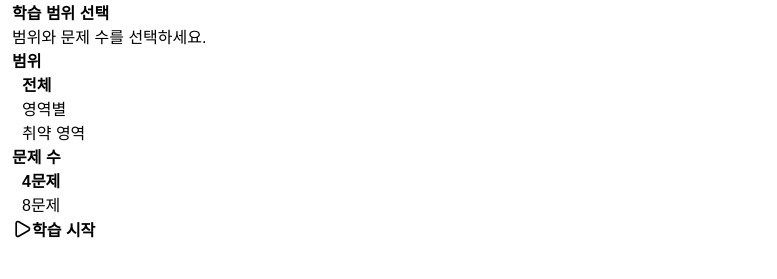
학습 시작 › 401이면 로그인 안내와 다른 기기 로그인 시 세션 만료 가능 문구를 보인다
What coordinates should you click on to do the following:
click the button "학습 시작"
I would click on:
 (54, 229)
Its box is x1=12 y1=216 x2=95 y2=242.
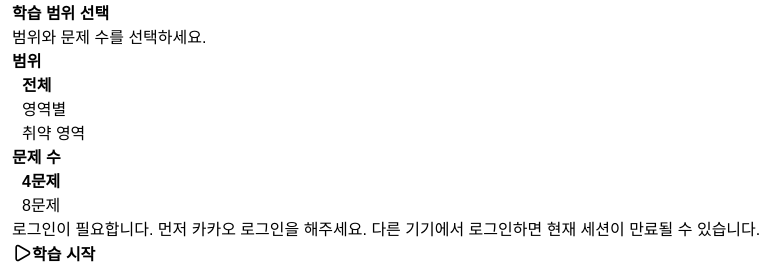
expect the text "다른 기기에서 로그인하면 현재 세션이 만료될 수 있습니다" is shown: met, box x1=12 y1=221 x2=760 y2=238
